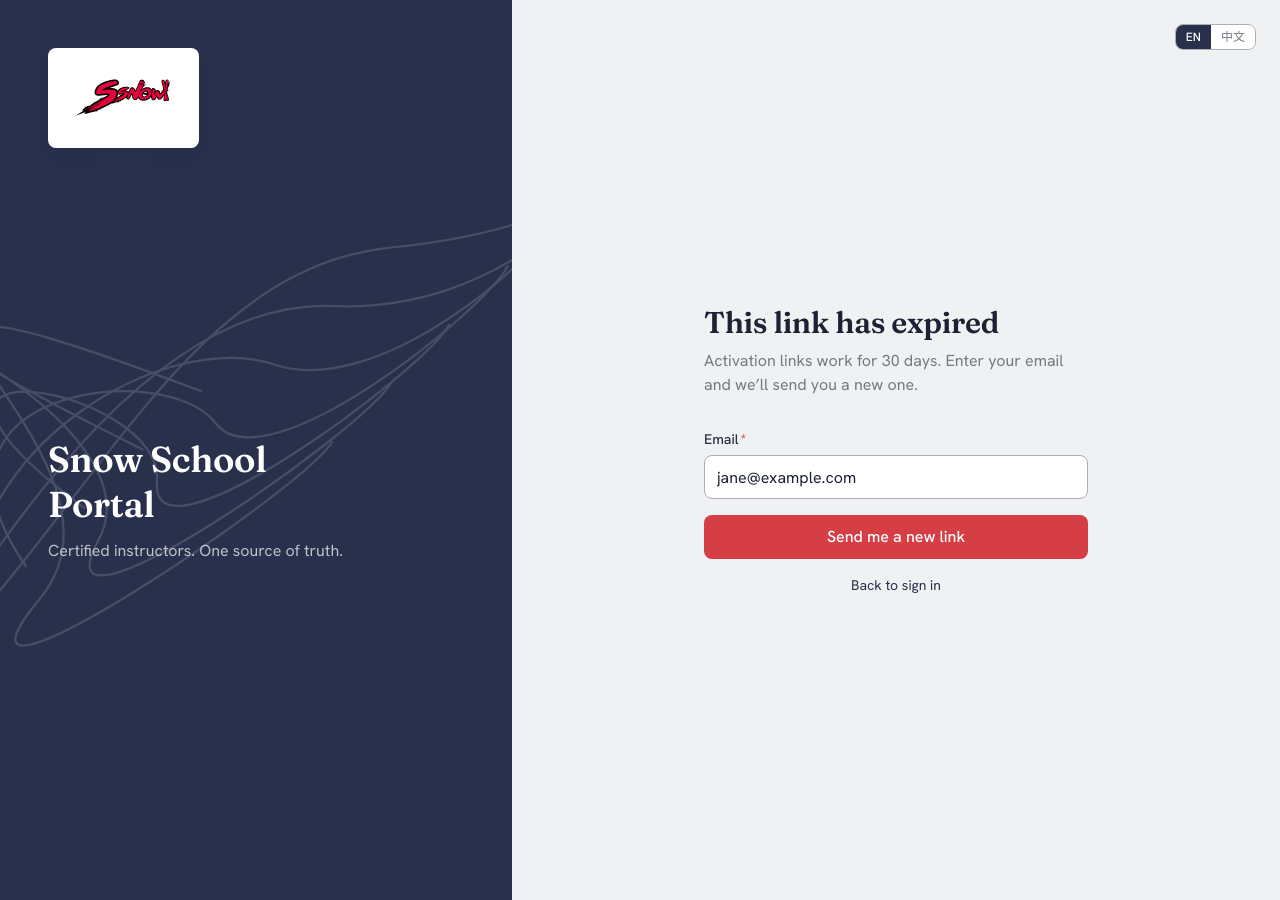
Test: ActivatePage › offers a new link when the invite has expired, pre-filling a known email
Expected: the heading "This link has expired" is shown, [704,304,999,341]
Expected: the field labelled "Email*" holds "jane@example.com", [704,455,1088,499]
Click the button named "Send me a new link" at (896, 537), box [704,515,1088,559]
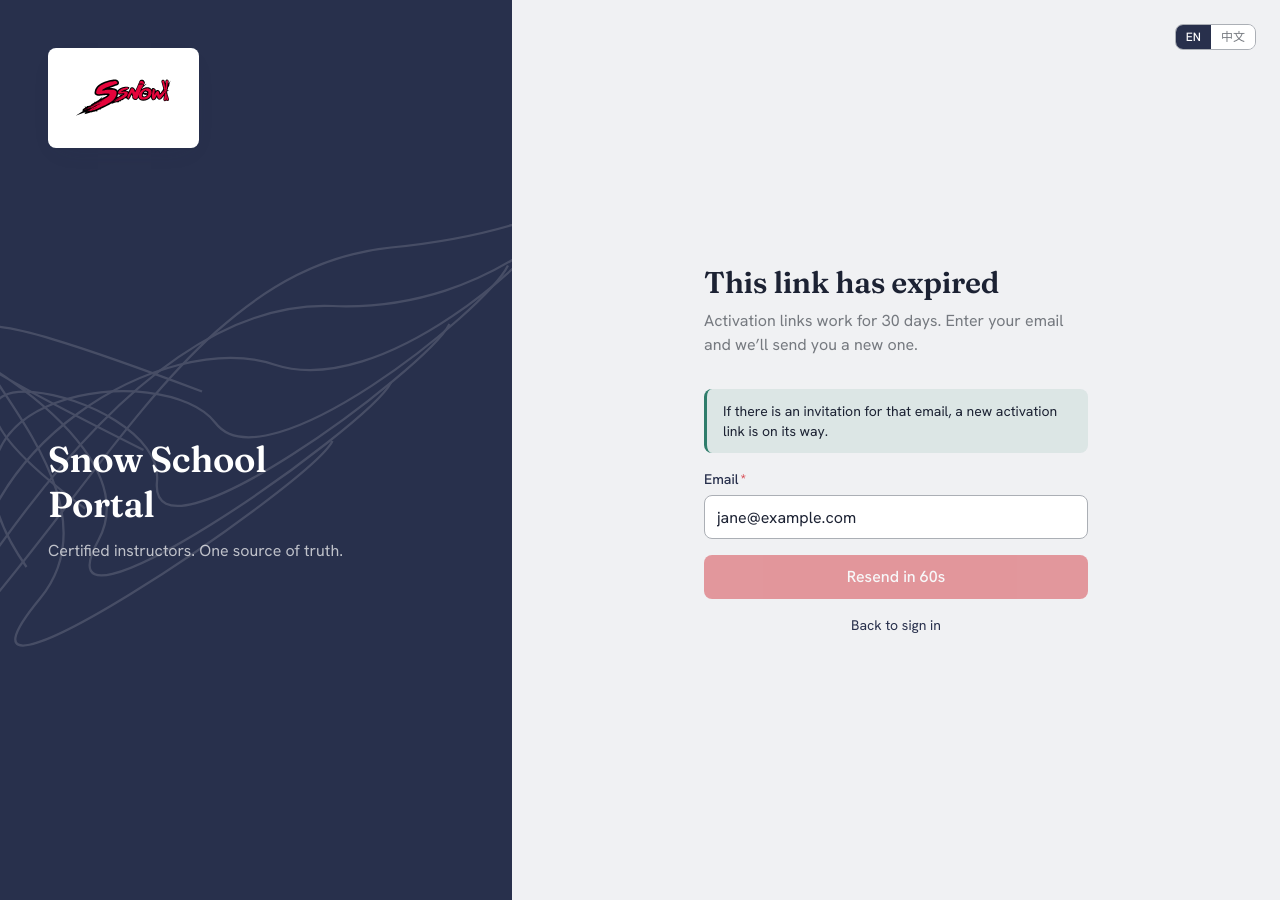
Result: the text "a new activation link is on its way" is shown at [723,402,1057,440]
